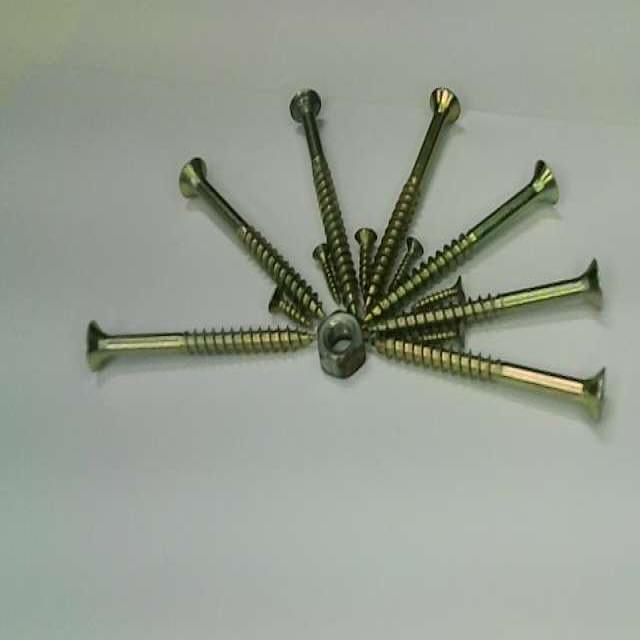Parafuso: (364, 161, 557, 323), (180, 159, 324, 316), (365, 88, 459, 311), (375, 339, 603, 417), (371, 259, 601, 333), (291, 89, 359, 313), (87, 321, 314, 369), (390, 239, 423, 289), (312, 244, 339, 304), (391, 323, 464, 345), (413, 277, 463, 309), (269, 287, 311, 325), (355, 227, 376, 296)
Porca: (318, 311, 364, 376)
